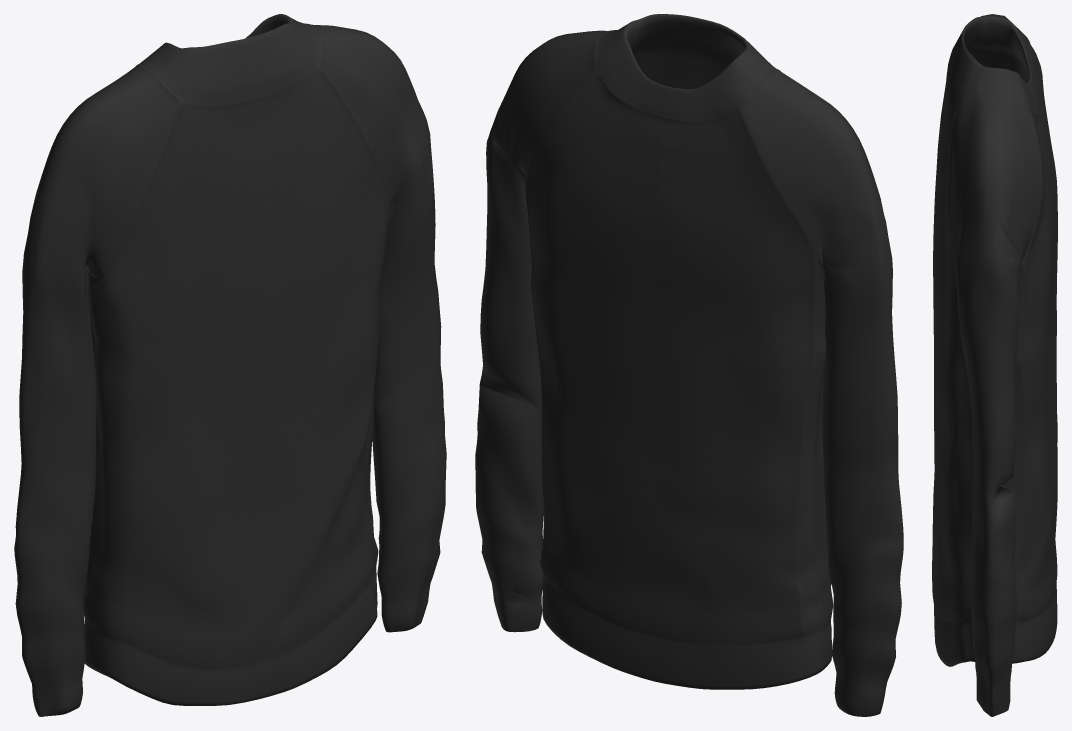
The picture shows the model from 3 angles, left to right: view 1: azimuth 30°, elevation 25°; view 2: azimuth 150°, elevation 25°; view 3: azimuth 270°, elevation 25°; orthographic projection. The views are drawn at different scales.
Parts seen in each view (by area): view 1: Plane184; view 2: Plane184; view 3: Plane184.
Part boxes in pixels (box(x1,y1,x2,y2)): Plane184: box(14, 14, 446, 716); Plane184: box(475, 14, 903, 716); Plane184: box(932, 14, 1057, 716).
Size of the model in its own units: 16.73 by 24.14 by 4.58.
